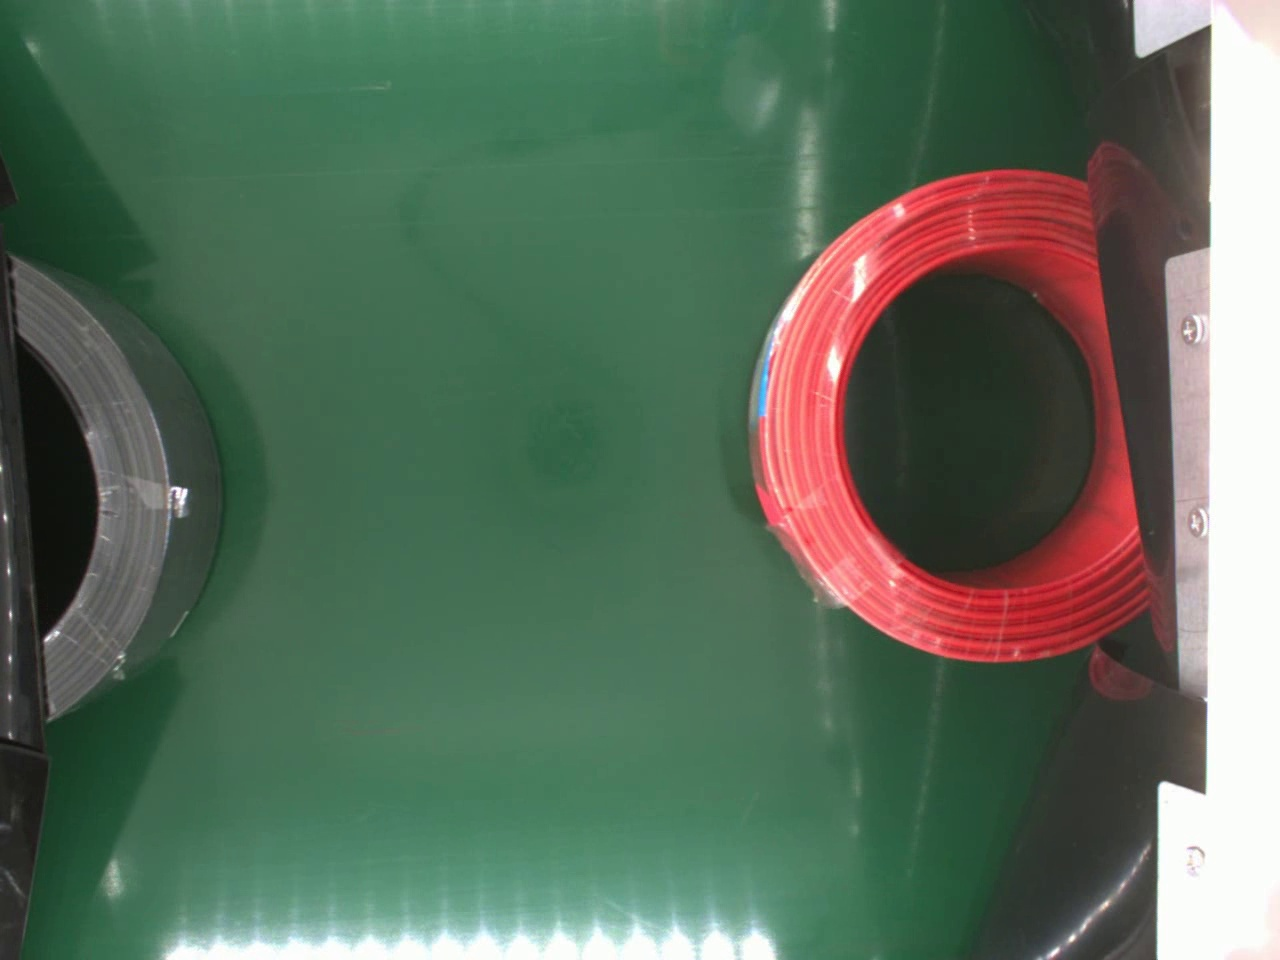black: (11, 249, 227, 723)
red: (743, 165, 1154, 670)
